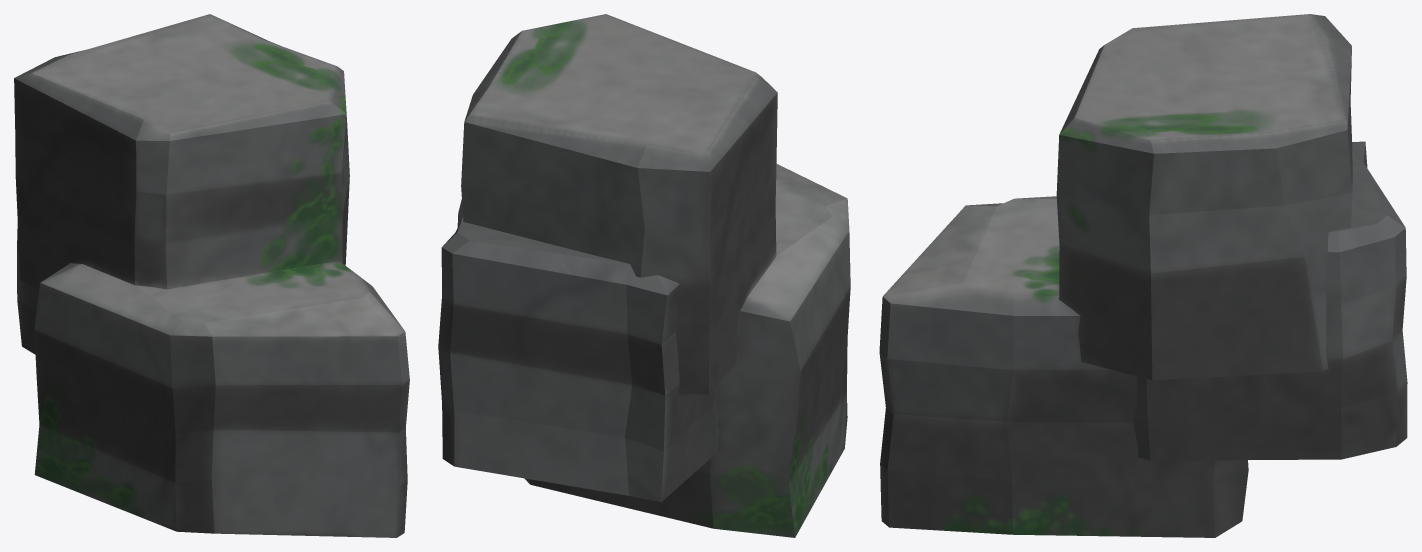
The model's file is batu 12.fbx.
The picture shows the model from 3 angles, left to right: view 1: azimuth 30°, elevation 25°; view 2: azimuth 150°, elevation 25°; view 3: azimuth 270°, elevation 25°; orthographic projection. The views are drawn at different scales.
Visible parts, largest first — view 1: batu12; view 2: batu12; view 3: batu12.
Boxes of the visible parts, left/top/right/bottom form: batu12: left=14, top=14, right=409, bottom=537; batu12: left=438, top=14, right=850, bottom=537; batu12: left=879, top=14, right=1407, bottom=537.
Bounding box in the file's own units: 244 × 301 × 346.
1 material, 1 textured.
